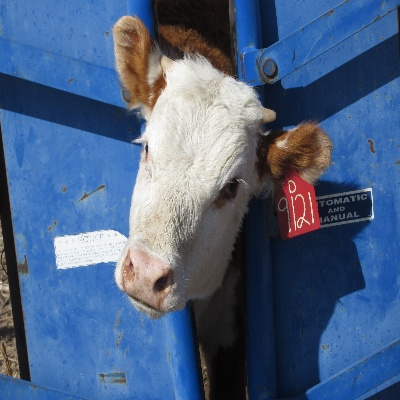fidget_spinner: (116, 249, 176, 305)
